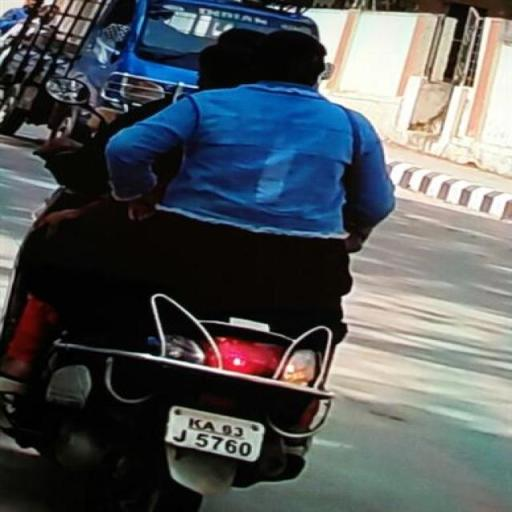tripple riding: (8, 26, 406, 303)
